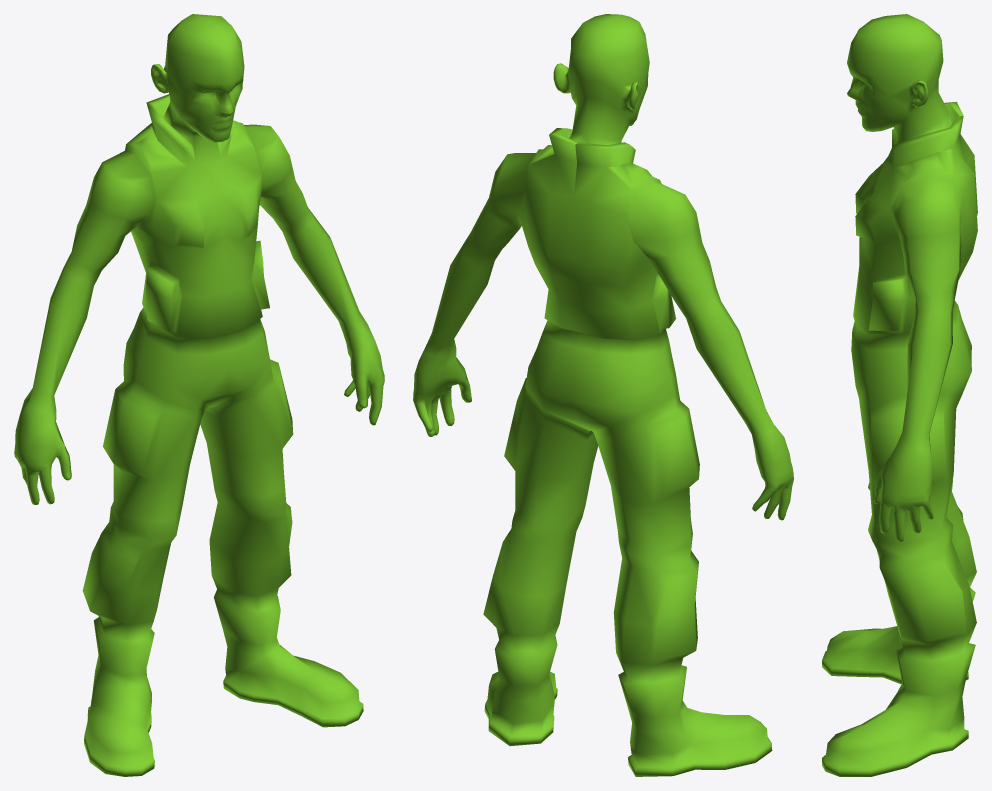
Rendered from soldie.obj.
The picture shows the model from 3 angles, left to right: view 1: azimuth 30°, elevation 25°; view 2: azimuth 150°, elevation 25°; view 3: azimuth 270°, elevation 25°; orthographic projection. The views are drawn at different scales.
Visible parts, largest first — view 1: Plane.001; view 2: Plane.001; view 3: Plane.001.
Boxes of the visible parts, x1,y1,x2,y2 form: Plane.001: (14, 14, 384, 776); Plane.001: (413, 14, 793, 776); Plane.001: (822, 14, 977, 776).
Bounding box in the file's own units: 8.33 × 15.6 × 3.16.
